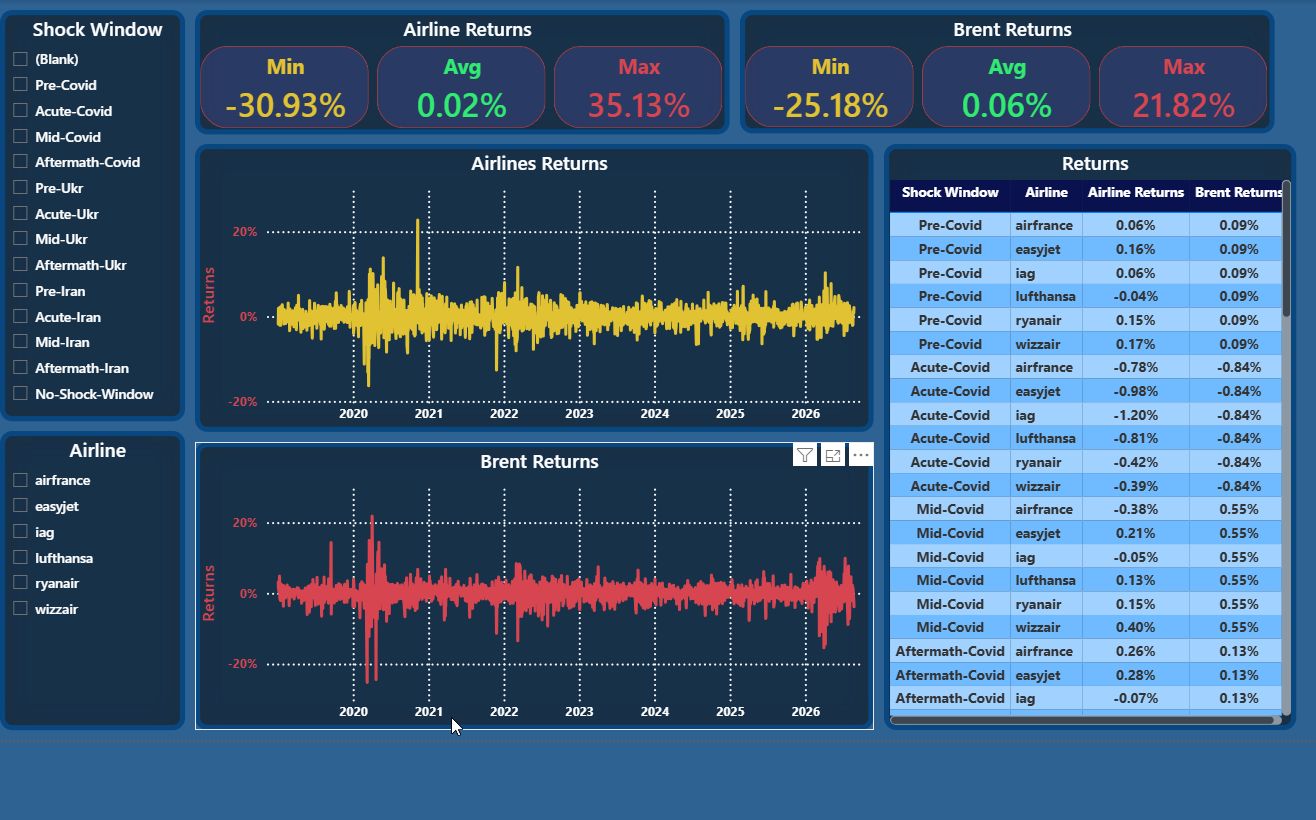

The page's visual inventory and layout, read from the dashboard file:
{"tool":"powerbi","page":{"name":"Returns","canvas":[1280,720],"ordinal":1},"visuals":[{"type":"slicer","title":"Shock Window","fields":{"Values":["periods_sorted_order.period_name"]},"box":[0,10,180,400],"z":0},{"type":"slicer","title":"Airline","fields":{"Values":["vw_airline_vol_30d.name"]},"box":[0,419.5,180.1,291],"z":1000},{"type":"cardVisual","title":"Airline Returns","fields":{"Data":["Min(vw_airline_vol_30d.daily_return)","Avg(vw_airline_vol_30d.daily_return)1","Max(vw_airline_vol_30d.daily_return)2"]},"box":[189.8,9.7,520,120.7],"z":2000},{"type":"cardVisual","title":"Brent Returns","fields":{"Data":["Min(vw_brent_vol_30d.daily_return)","Avg(vw_brent_vol_30d.daily_return)1","Max(vw_brent_vol_30d.daily_return)2"]},"box":[720,9.7,520,119.7],"z":3000},{"type":"lineChart","title":"Airlines Returns","fields":{"Category":["dim_date.date"],"Y":["Avg(vw_airline_vol_30d.daily_return)"]},"box":[189.8,140,660,280.3],"z":4000},{"type":"lineChart","title":"Brent Returns","fields":{"Category":["dim_date.date"],"Y":["Avg(vw_brent_vol_30d.daily_return)"]},"box":[189.8,430,660,280.3],"z":5000},{"type":"tableEx","title":"Returns","fields":{"Values":["periods_sorted_order.period_name","vw_airline_vol_30d.name","Avg(vw_airline_vol_30d.daily_return)","Avg(vw_brent_vol_30d.daily_return)"]},"box":[859.5,140.2,401,570.4],"z":6000}]}

Visuals, with their boxes on the page's 1280x720 design canvas (x1, y1, x2, y2). These are canvas units, not pixel positions in the 1316x820 screenshot, which may show the page scaled, cropped or inside an application window:
"Shock Window" slicer: x1=0 y1=10 x2=180 y2=410
"Airline" slicer: x1=0 y1=420 x2=180 y2=710
"Airline Returns" cardVisual: x1=190 y1=10 x2=710 y2=130
"Brent Returns" cardVisual: x1=720 y1=10 x2=1240 y2=129
"Airlines Returns" lineChart: x1=190 y1=140 x2=850 y2=420
"Brent Returns" lineChart: x1=190 y1=430 x2=850 y2=710
"Returns" tableEx: x1=860 y1=140 x2=1260 y2=711
